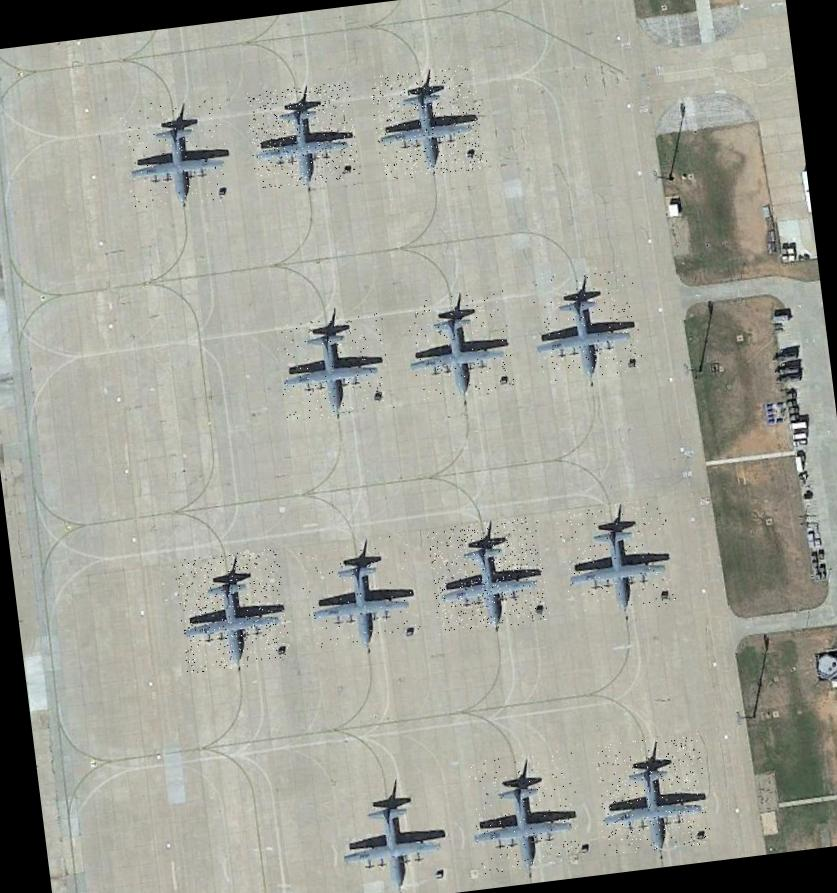A2: (297, 530, 422, 651), (590, 732, 712, 855), (328, 772, 451, 893), (173, 547, 291, 673), (466, 748, 584, 874), (426, 515, 550, 634), (555, 498, 676, 618), (368, 62, 488, 180), (528, 262, 644, 382), (116, 94, 232, 212), (274, 311, 394, 422), (244, 79, 360, 190), (405, 288, 515, 402)
